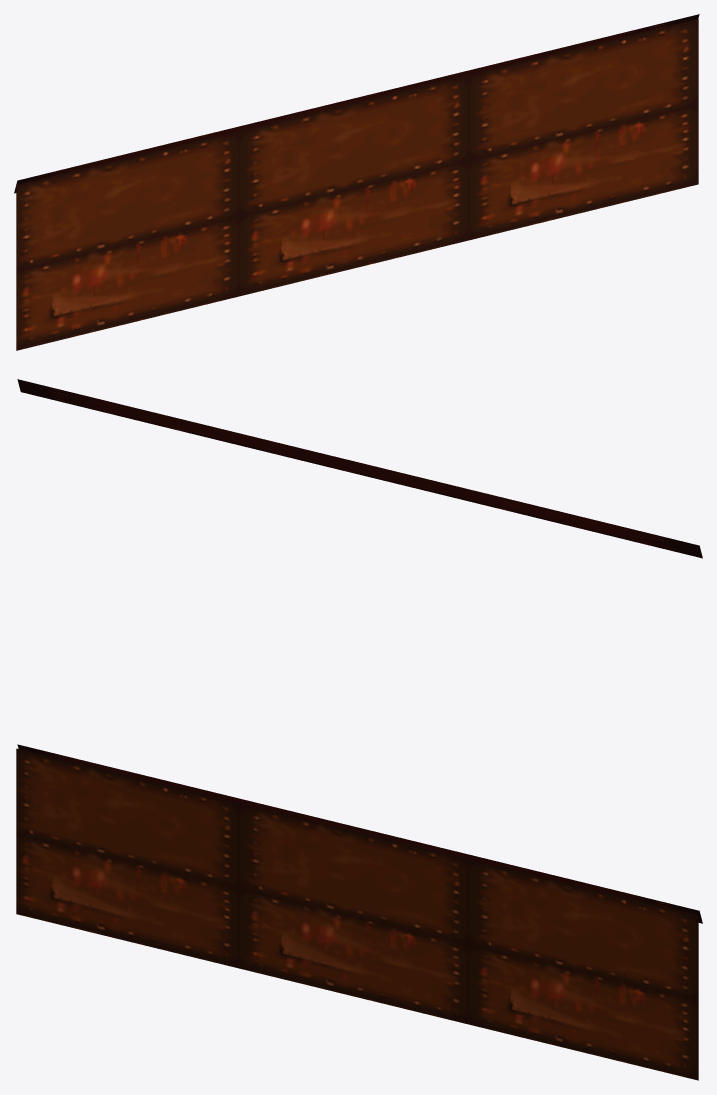
The model's file is Zaun_Rostig_913.glb.
3 views of the same model, one above another, from view 1: azimuth 30°, elevation 25°; view 2: azimuth 150°, elevation 25°; view 3: azimuth 330°, elevation 25° (orthographic).
Parts seen in each view (by area): view 1: pPlaneShape183, pPlaneShape184; view 2: pPlaneShape184; view 3: pPlaneShape183, pPlaneShape184.
Part boxes in pixels (<box>): pPlaneShape183: <box>16,19,698,350</box>; pPlaneShape184: <box>14,14,699,193</box>; pPlaneShape184: <box>17,379,702,558</box>; pPlaneShape183: <box>16,748,698,1080</box>; pPlaneShape184: <box>17,744,702,923</box>.
Size of the model in its own units: 1 by 0.2382 by 0.0172.
2 materials, 2 textured.
